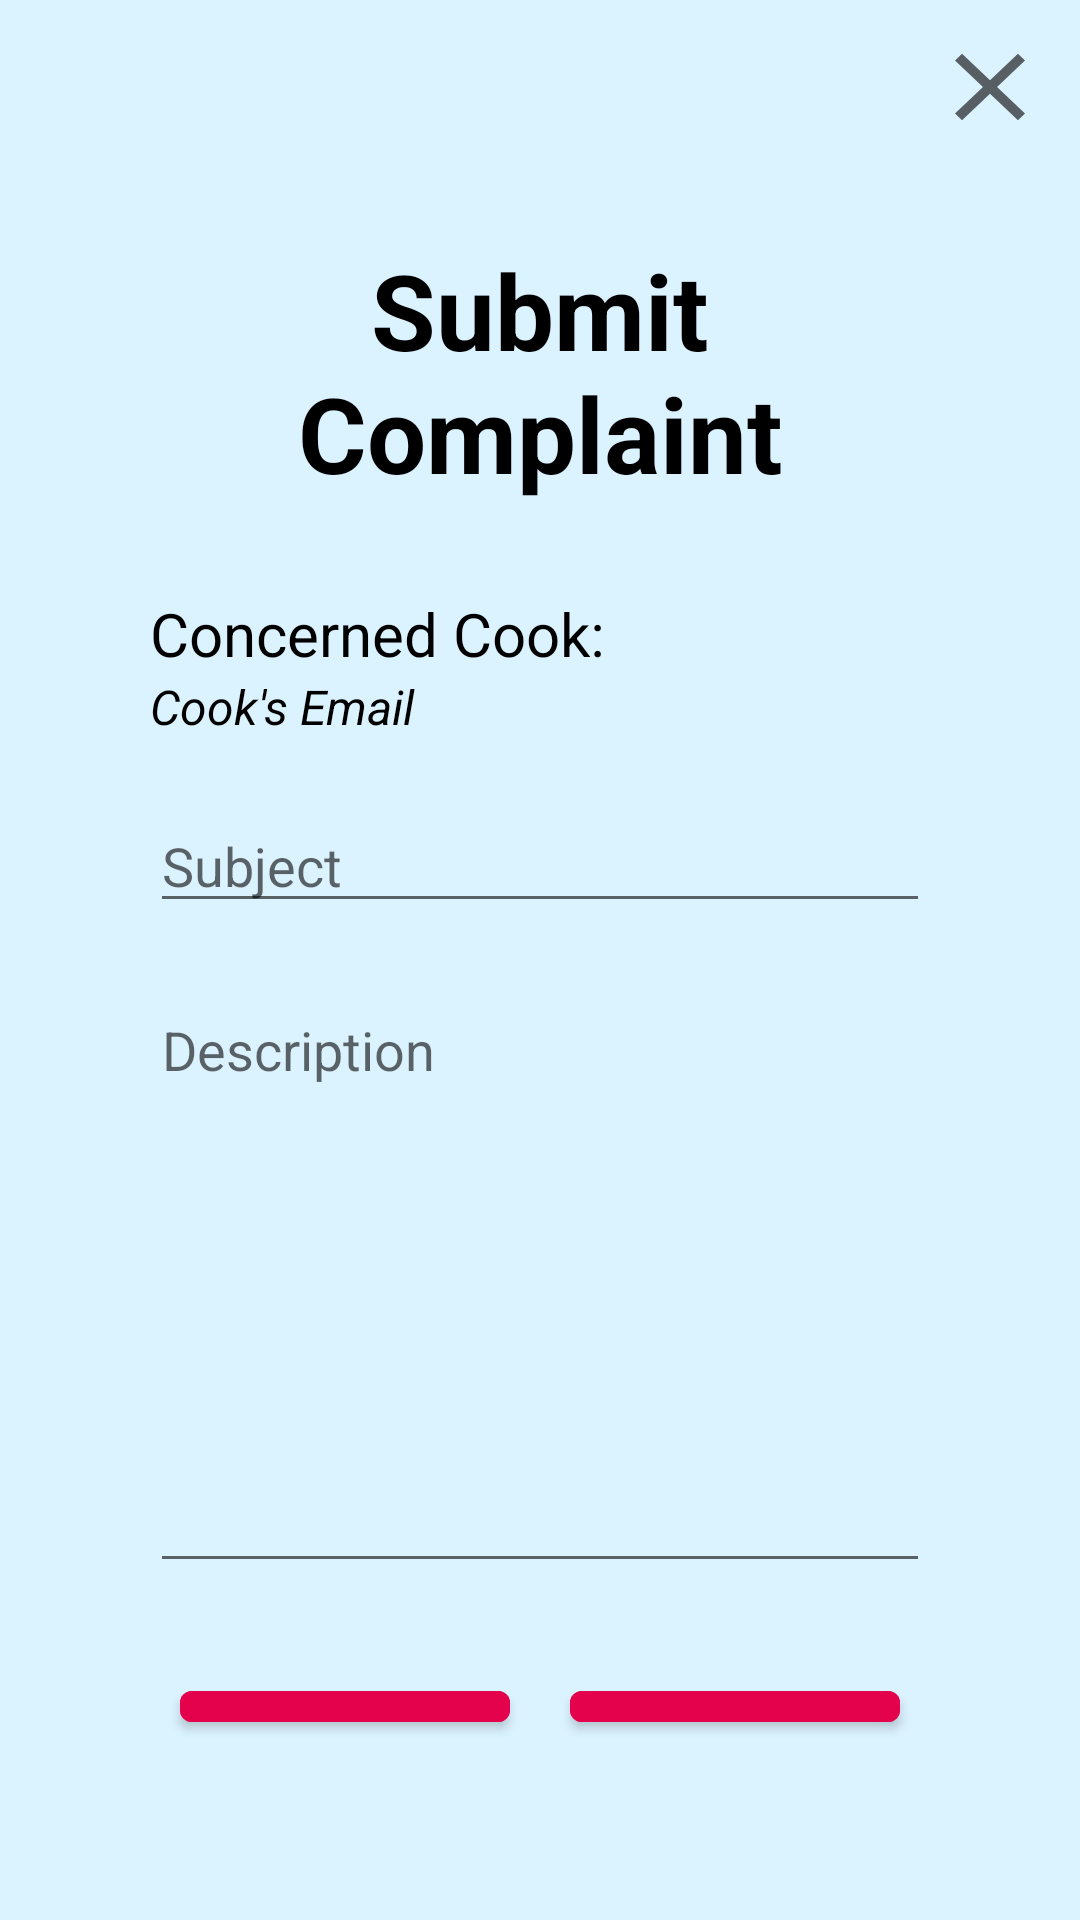

Icons on this 1080w x 1920h Android screen, each with its box as (x1, y1, x2, y2):
close: (955, 54, 1025, 120)
